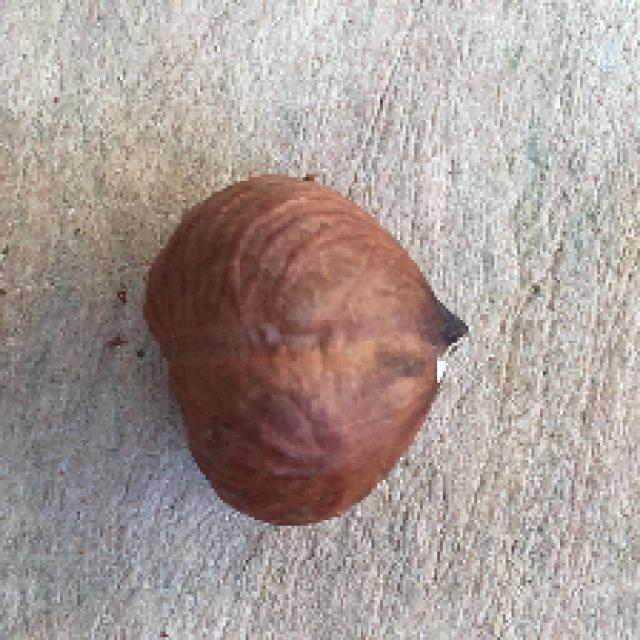hazelnut: (150, 160, 481, 526)
